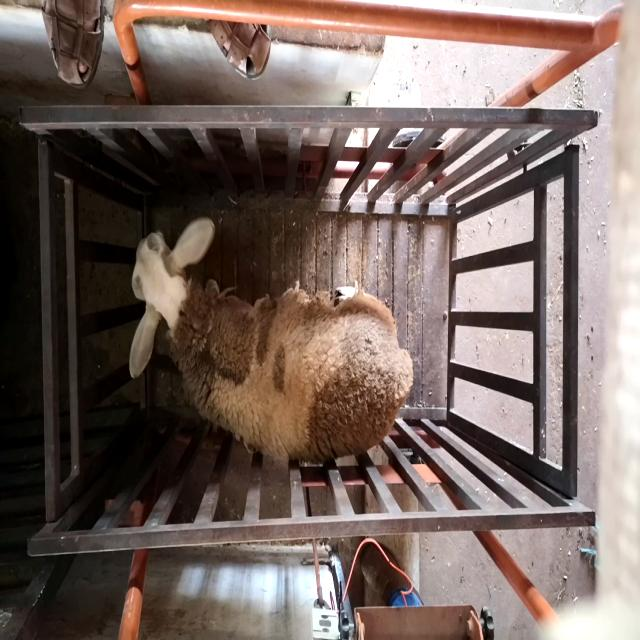sheep: (129, 215, 413, 464)
